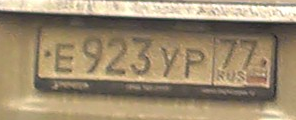character: (128, 34, 154, 77), (51, 40, 78, 75), (80, 35, 103, 76), (183, 44, 207, 82), (106, 36, 129, 75), (236, 36, 259, 72), (215, 36, 236, 71), (160, 45, 180, 80)
